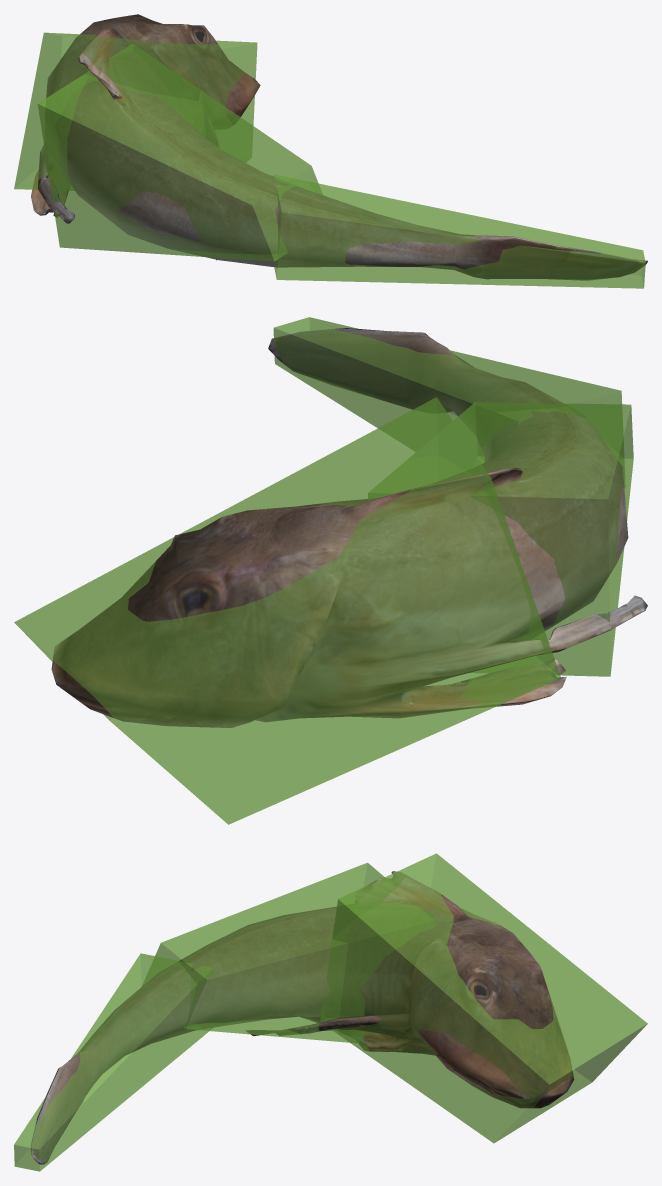
File: pg_Fish_03.fbx
3 views of the same model, one above another, from view 1: azimuth 30°, elevation 25°; view 2: azimuth 150°, elevation 25°; view 3: azimuth 270°, elevation 25° (orthographic). The views are drawn at different scales.
Parts seen in each view (by area): view 1: pg_Fish_03_a_LOD0, pg_Fish_03_a_col_03, pg_Fish_03_a_col_02, pg_Fish_03_a_col_01; view 2: pg_Fish_03_a_LOD0, pg_Fish_03_a_col_01, pg_Fish_03_a_col_03, pg_Fish_03_a_col_02; view 3: pg_Fish_03_a_LOD0, pg_Fish_03_a_col_01, pg_Fish_03_a_col_03, pg_Fish_03_a_col_02.
Boxes of the visible parts, x1,y1,x2,y2 form: pg_Fish_03_a_LOD0: (31,14,647,280); pg_Fish_03_a_col_03: (37,44,322,261); pg_Fish_03_a_col_02: (274,174,645,288); pg_Fish_03_a_col_01: (14,32,257,190); pg_Fish_03_a_LOD0: (51,328,647,727); pg_Fish_03_a_col_01: (14,397,560,824); pg_Fish_03_a_col_03: (368,402,633,676); pg_Fish_03_a_col_02: (273,317,624,484); pg_Fish_03_a_LOD0: (30,871,574,1164); pg_Fish_03_a_col_01: (320,853,647,1143); pg_Fish_03_a_col_03: (143,862,435,1042); pg_Fish_03_a_col_02: (14,953,212,1171).
Size of what is drawn, in the model's own units: 24.81 by 11.55 by 35.8.
